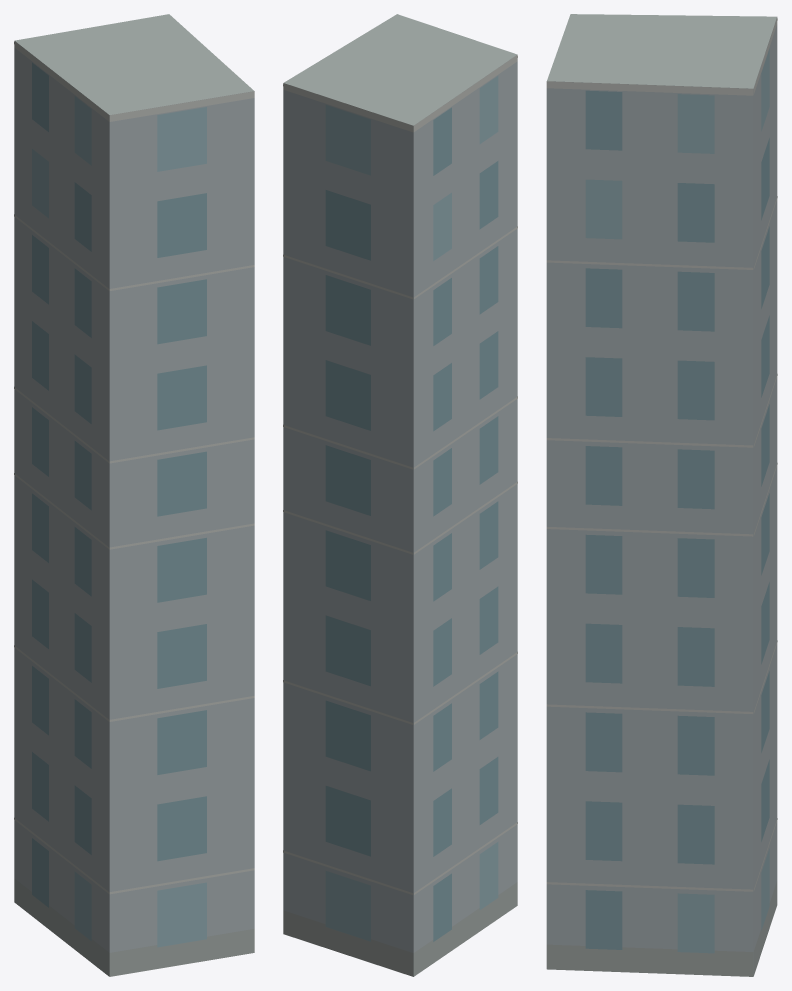
Rendered from survey-upis-32551123.glb.
The picture shows the model from 3 angles, left to right: view 1: azimuth 30°, elevation 25°; view 2: azimuth 150°, elevation 25°; view 3: azimuth 270°, elevation 25°; orthographic projection. The views are drawn at different scales.
Parts seen in each view (by area): view 1: survey-upis-32551123.tmp; view 2: survey-upis-32551123.tmp; view 3: survey-upis-32551123.tmp.
Part boxes in pixels (x1,y1,x2,y2): survey-upis-32551123.tmp: (14, 14, 254, 976); survey-upis-32551123.tmp: (283, 14, 517, 976); survey-upis-32551123.tmp: (546, 14, 777, 976).
Bounding box in the file's own units: 5.52 × 30.5 × 7.2.
